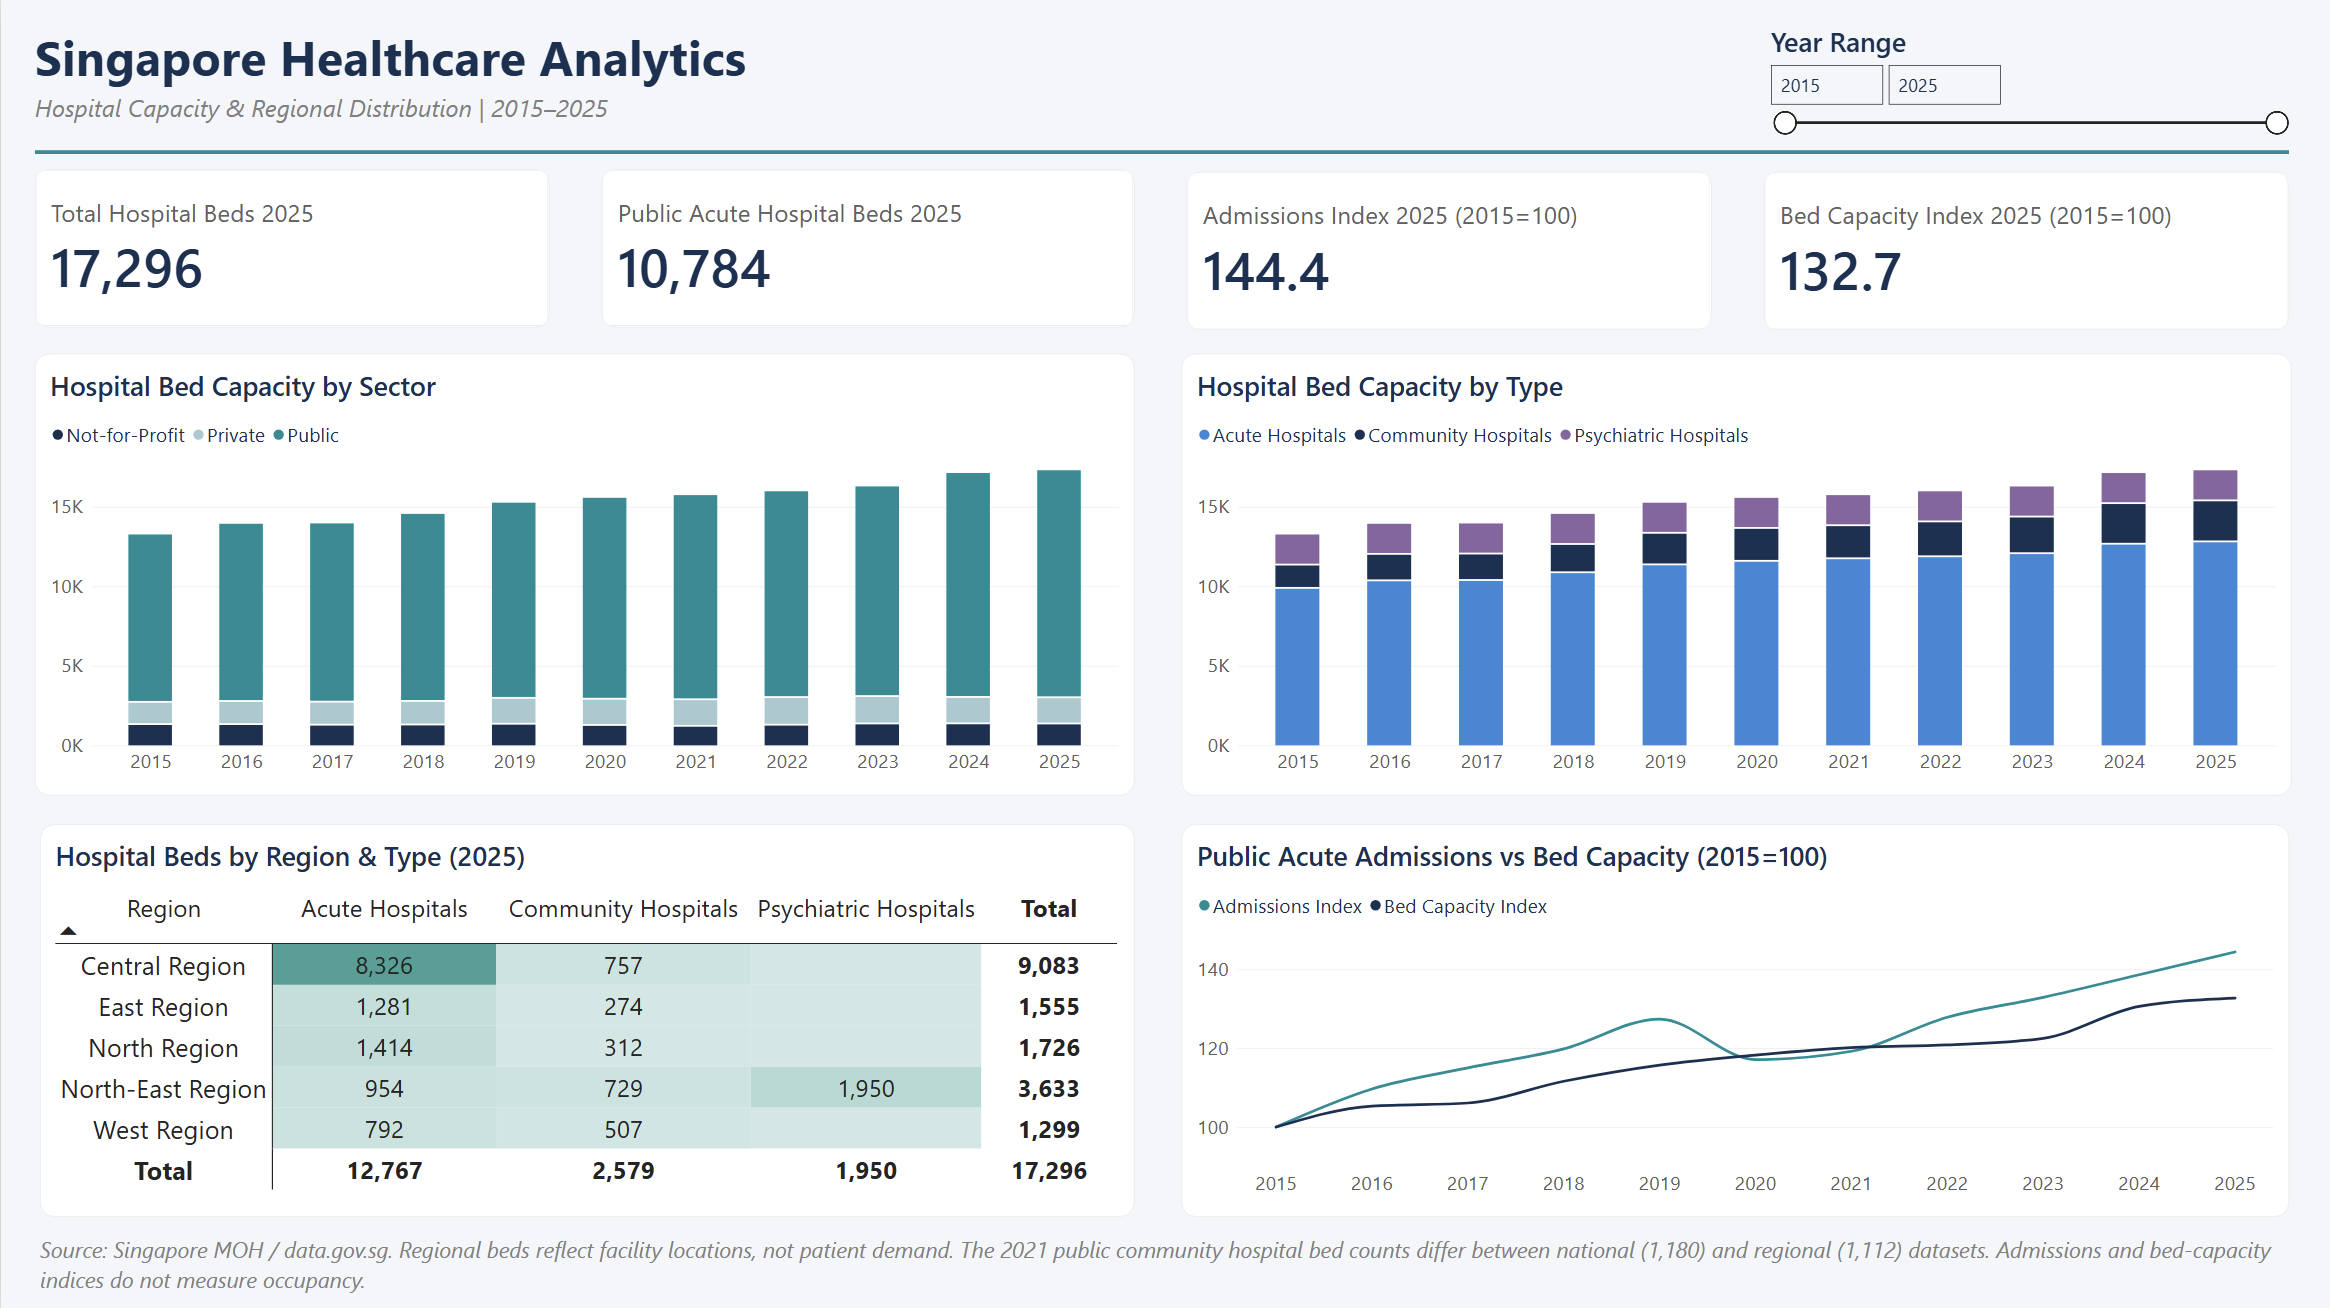

The dashboard page shown, as its layout file describes it:
{"tool":"powerbi","page":{"name":"Hospital Capacity & Regions","canvas":[2560,1440],"ordinal":1},"visuals":[{"type":"cardVisual","fields":{"Data":["Facilities Annual.Total Hospital Beds 2025"]},"box":[0,90,640,210],"z":0},{"type":"cardVisual","fields":{"Data":["Facilities Annual.Public Acute Hospital Beds 2025"]},"box":[640,90,640,210],"z":1000},{"type":"cardVisual","fields":{"Data":["Monthly Utilisation.Admissions Index (2015 BASE 100)"]},"box":[1280,90,640,196.7],"z":2000},{"type":"cardVisual","fields":{"Data":["Facilities Annual.Bed Capacity Index (2015 Base 100)"]},"box":[1920,90,640,196.7],"z":3000},{"type":"columnChart","title":"Hospital Bed Capacity by Type & Sector (2015–2025)","fields":{"Category":["Year.Year"],"Rows":["Facilities Annual.facility_type"],"Series":["Facilities Annual.sector"],"Y":["Facilities Annual.Total Hospital Beds"]},"box":[0,300,1280,530],"z":4000},{"type":"lineChart","title":"\tPublic Acute Admissions vs Bed Capacity (2015=100)","fields":{"Category":["Year.Year"],"Y":["Monthly Utilisation.Admissions Index (2015 BASE 100)","Facilities Annual.Bed Capacity Index (2015 Base 100)"]},"box":[1280,300,1280,530],"z":5000},{"type":"pivotTable","fields":{"Columns":["Regional Beds Annual.facility_type"],"Rows":["Regional Beds Annual.planning_region","Regional Beds Annual.year"],"Values":["Regional Beds Annual.Regional Hospital Beds"]},"box":[0,830,1036,530],"z":6000},{"type":"clusteredBarChart","title":"\tRegional Hospital Bed Capacity: 2020 vs 2025","fields":{"Category":["Regional Beds Annual.planning_region"],"Series":["Regional Beds Annual.year"],"Y":["Regional Beds Annual.Regional Hospital Beds"]},"box":[1280,830,1280,530],"z":7000},{"type":"slicer","fields":{"Values":["Regional Beds Annual.year"]},"box":[1036.7,830,246.7,530],"z":8000},{"type":"textbox","box":[0,0,2560,90],"z":8001},{"type":"textbox","box":[0,1360,2560,80],"z":8002}]}

Visuals, with their boxes in screenshot pixels (x1, y1, x2, y2), scaled from the page's 2560x1440 canvas onto the 2330x1308 screenshot:
cardVisual - Facilities Annual.Total Hospital Beds 2025: box=[0, 82, 582, 272]
cardVisual - Facilities Annual.Public Acute Hospital Beds 2025: box=[582, 82, 1165, 272]
cardVisual - Monthly Utilisation.Admissions Index (2015 BASE 100): box=[1165, 82, 1748, 260]
cardVisual - Facilities Annual.Bed Capacity Index (2015 Base 100): box=[1748, 82, 2329, 260]
"Hospital Bed Capacity by Type & Sector (2015–2025)" columnChart: box=[0, 272, 1165, 754]
"	Public Acute Admissions vs Bed Capacity (2015=100)" lineChart: box=[1165, 272, 2329, 754]
pivotTable - Regional Beds Annual.facility_type x Regional Beds Annual.planning_region: box=[0, 754, 943, 1235]
"	Regional Hospital Bed Capacity: 2020 vs 2025" clusteredBarChart: box=[1165, 754, 2329, 1235]
slicer - Regional Beds Annual.year: box=[944, 754, 1168, 1235]
textbox: box=[0, 0, 2329, 82]
textbox: box=[0, 1235, 2329, 1307]
